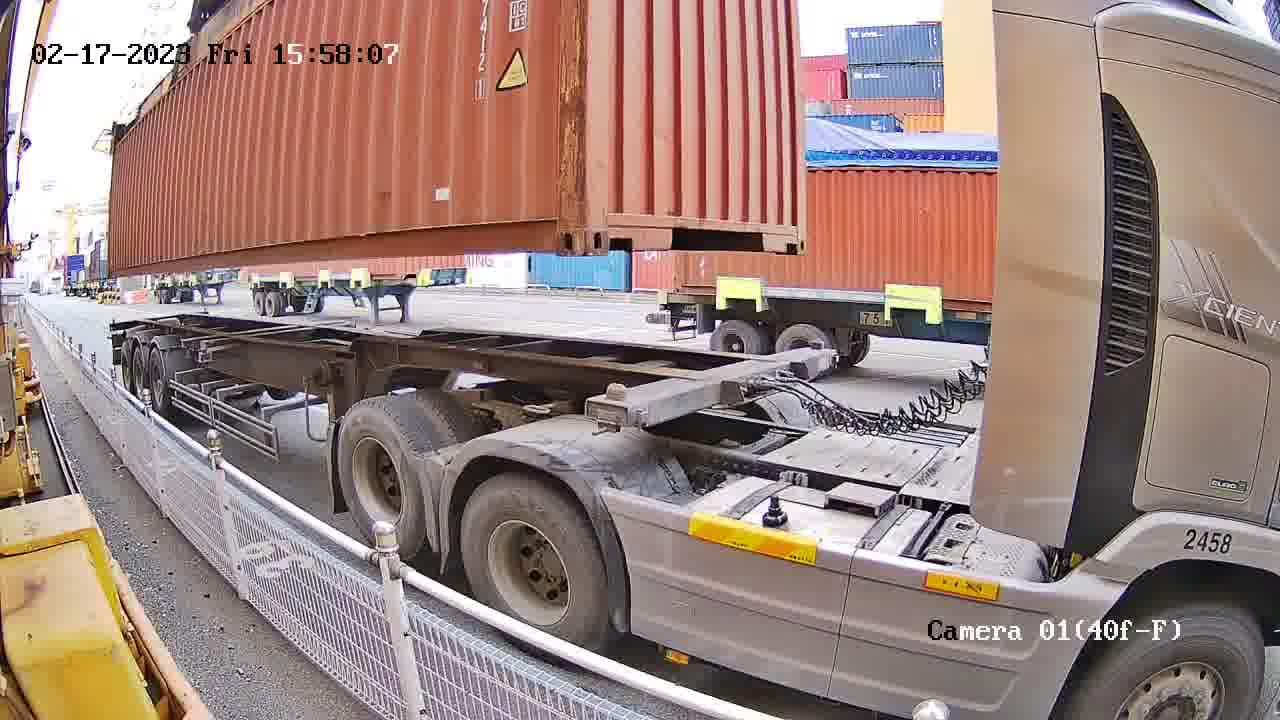Chassis: (584, 346, 836, 432)
Cone: (590, 380, 632, 437), (803, 335, 827, 353)
Hole_L: (587, 199, 637, 257)
Hole_R: (526, 200, 586, 257), (776, 216, 809, 256)
Tire: (460, 476, 608, 663), (340, 403, 424, 558)
